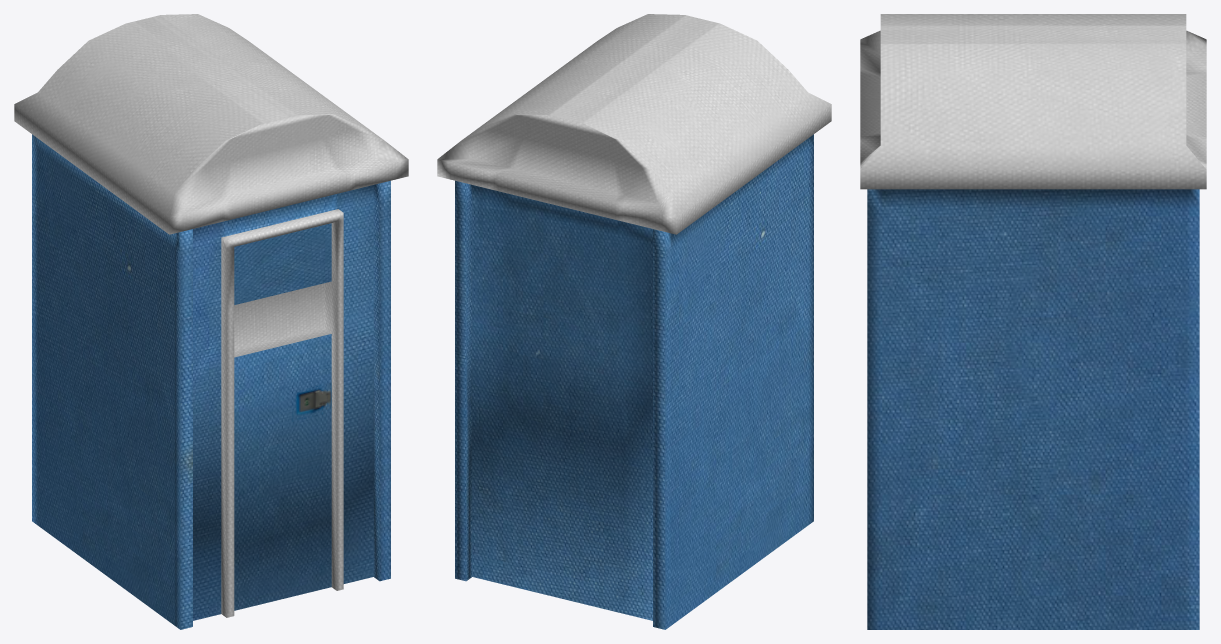
Rendered from port a potty.fbx.
3 views of the same model, side by side, from view 1: azimuth 30°, elevation 25°; view 2: azimuth 150°, elevation 25°; view 3: azimuth 270°, elevation 25° (orthographic). The views are drawn at different scales.
Parts seen in each view (by area): view 1: pCube1; view 2: pCube1; view 3: pCube1.
Boxes of the visible parts, x1=… form: pCube1: x1=14, y1=14, x2=408, y2=629; pCube1: x1=437, y1=14, x2=831, y2=629; pCube1: x1=860, y1=14, x2=1206, y2=629.
Size of the model in its own units: 3.64 by 7 by 4.09.
